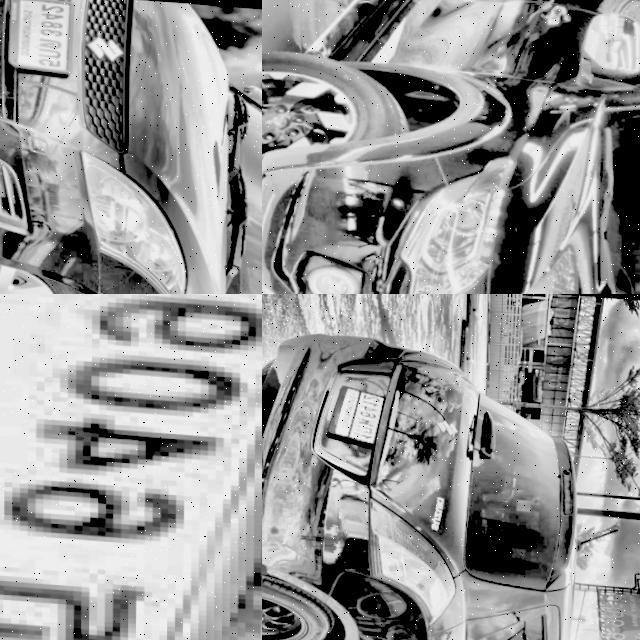license-plate: (0, 294, 262, 640), (10, 0, 73, 68), (330, 380, 385, 442)
